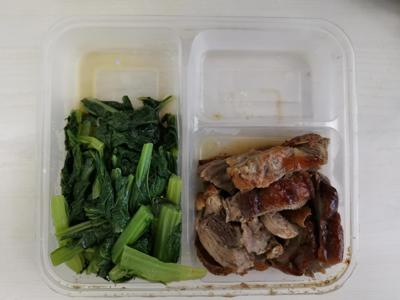bc: (62, 92, 185, 286)
yr: (195, 129, 348, 279)
